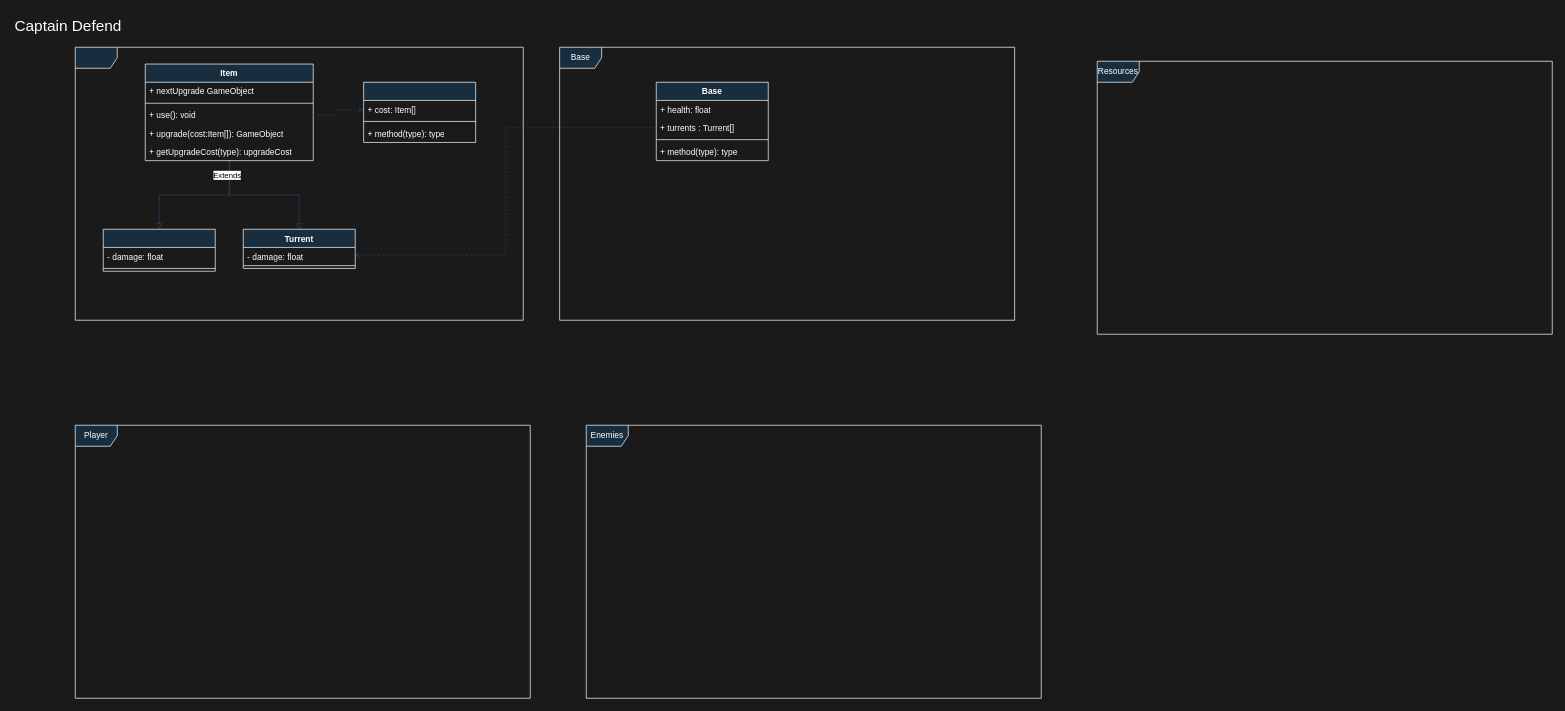
This 1565x711 diagram has some shape labels left out. Here are the shapes that lost their labels. From the top down, the box of each, then its label:
(363, 82, 476, 142): UpgradeCost
(75, 47, 523, 320): Items
(103, 229, 215, 271): Weapons
